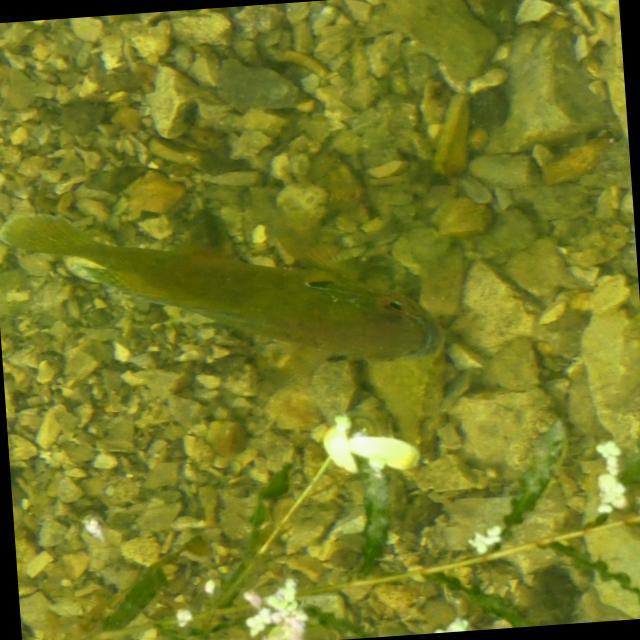Gunes Levregi: (0, 180, 447, 390)
